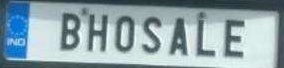character: (86, 11, 108, 53), (223, 17, 244, 57), (59, 10, 80, 49), (195, 17, 216, 56), (140, 15, 161, 53), (114, 15, 135, 52), (169, 16, 188, 55)
